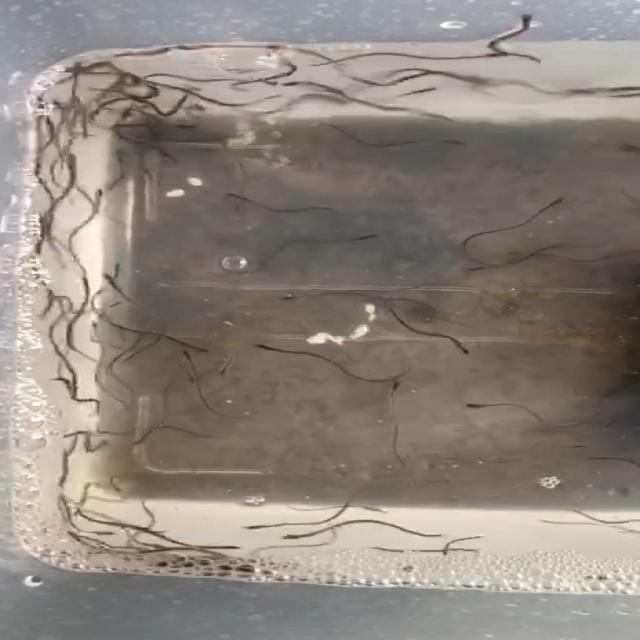inactive_glass_eel: (338, 226, 391, 246), (433, 132, 476, 155), (449, 397, 511, 412), (222, 518, 273, 534), (419, 82, 454, 105), (151, 149, 199, 165), (447, 338, 483, 358), (544, 197, 576, 219), (557, 438, 606, 452), (278, 532, 324, 546), (218, 189, 256, 205), (388, 375, 417, 395), (244, 42, 274, 58), (253, 339, 278, 358), (482, 44, 518, 57), (513, 10, 542, 26), (93, 274, 128, 286), (341, 506, 392, 514), (82, 189, 116, 201), (350, 75, 380, 88), (173, 344, 198, 359), (94, 260, 125, 272), (215, 541, 252, 551), (120, 94, 152, 105), (92, 527, 119, 540), (55, 147, 84, 159), (229, 200, 252, 215), (210, 359, 231, 375), (180, 370, 202, 385), (463, 262, 484, 272)
